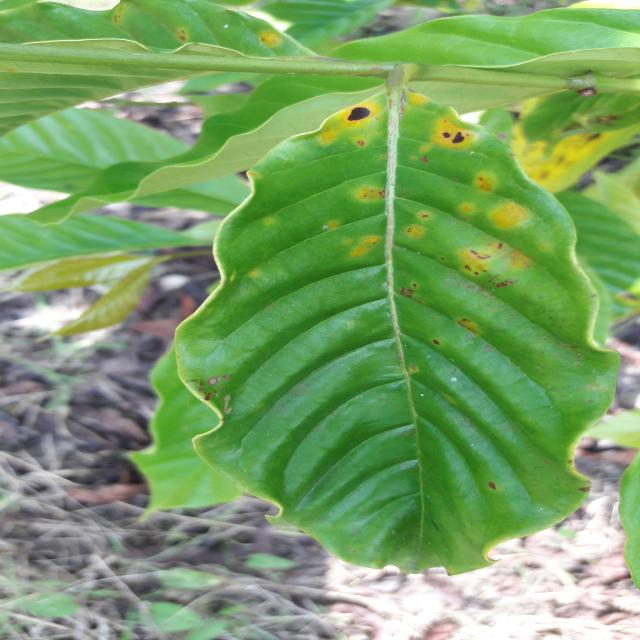Enfermedad-Roya: (166, 90, 622, 575)
